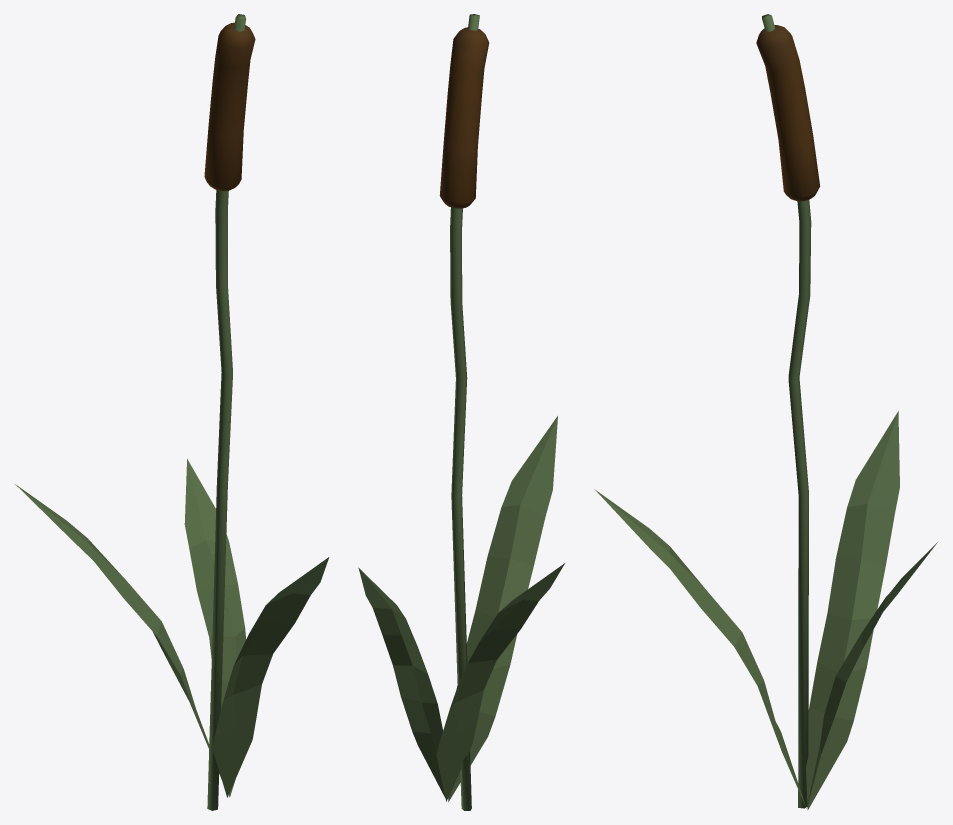
Rendered from Reeds.fbx.
3 views of the same model, side by side, from view 1: azimuth 30°, elevation 25°; view 2: azimuth 150°, elevation 25°; view 3: azimuth 270°, elevation 25° (orthographic). The views are drawn at different scales.
Parts seen in each view (by area): view 1: Cylinder; view 2: Cylinder; view 3: Cylinder.
Part boxes in pixels (x1,y1,x2,y2): Cylinder: [15, 14, 329, 810]; Cylinder: [358, 14, 564, 810]; Cylinder: [594, 14, 937, 810].
Bounding box in the file's own units: 914 × 3395 × 1334.
